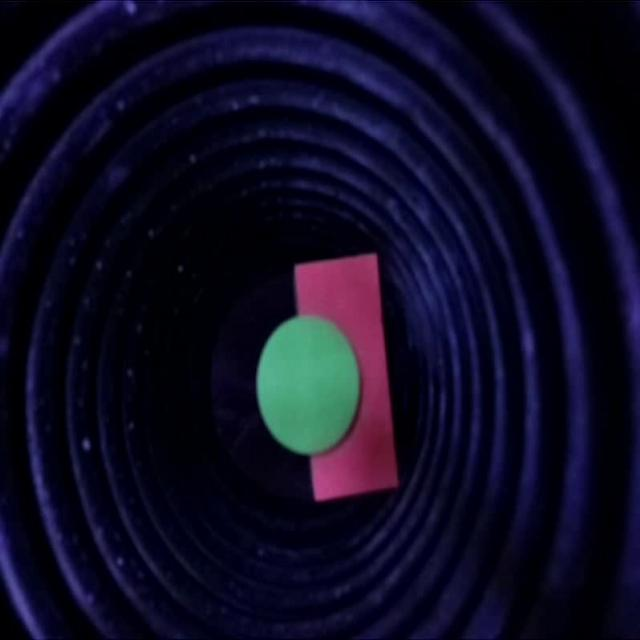obstacles: (252, 256, 401, 504)
